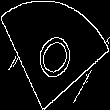O_SW: (30, 23, 80, 87)
